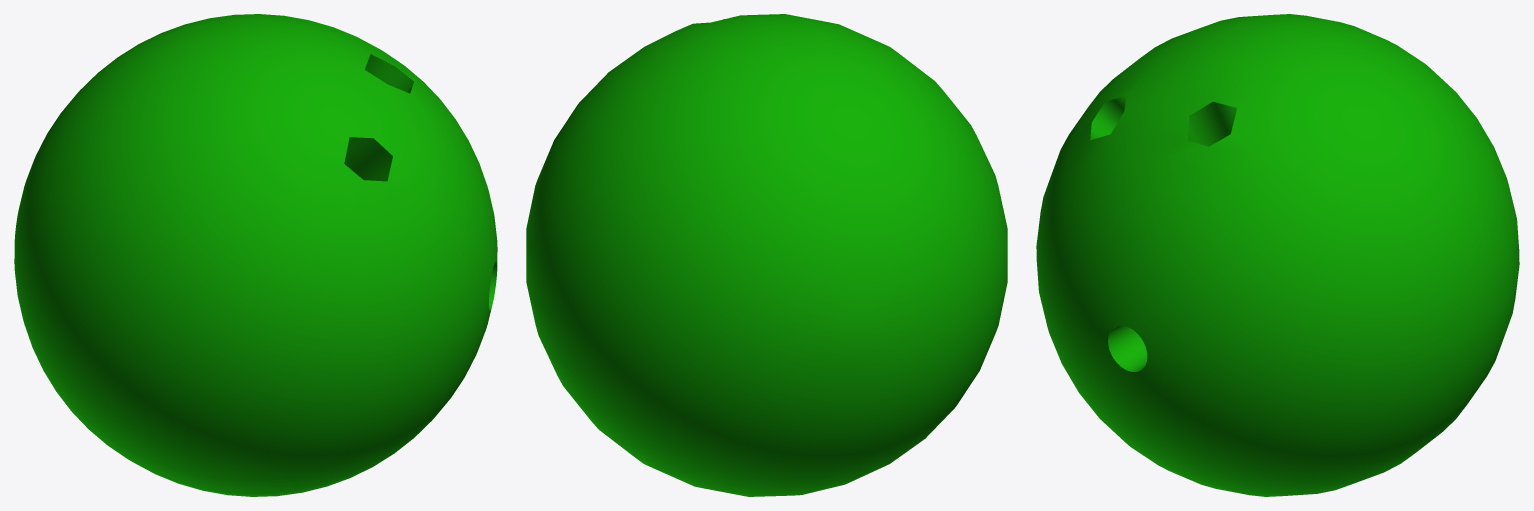
Rendered from bowlingBallColor3.fbx.
3 views of the same model, side by side, from view 1: azimuth 30°, elevation 25°; view 2: azimuth 150°, elevation 25°; view 3: azimuth 270°, elevation 25° (orthographic).
Visible parts, largest first — view 1: ball2; view 2: ball2; view 3: ball2.
Part boxes in pixels (bbox=[...]): ball2: bbox=[14, 14, 497, 496]; ball2: bbox=[526, 14, 1007, 496]; ball2: bbox=[1036, 14, 1519, 496].
Size of the model in its own units: 9.01 by 9.01 by 9.01.
